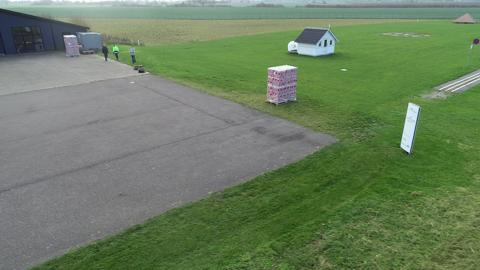RockwoolPallet: (63, 34, 80, 58)
